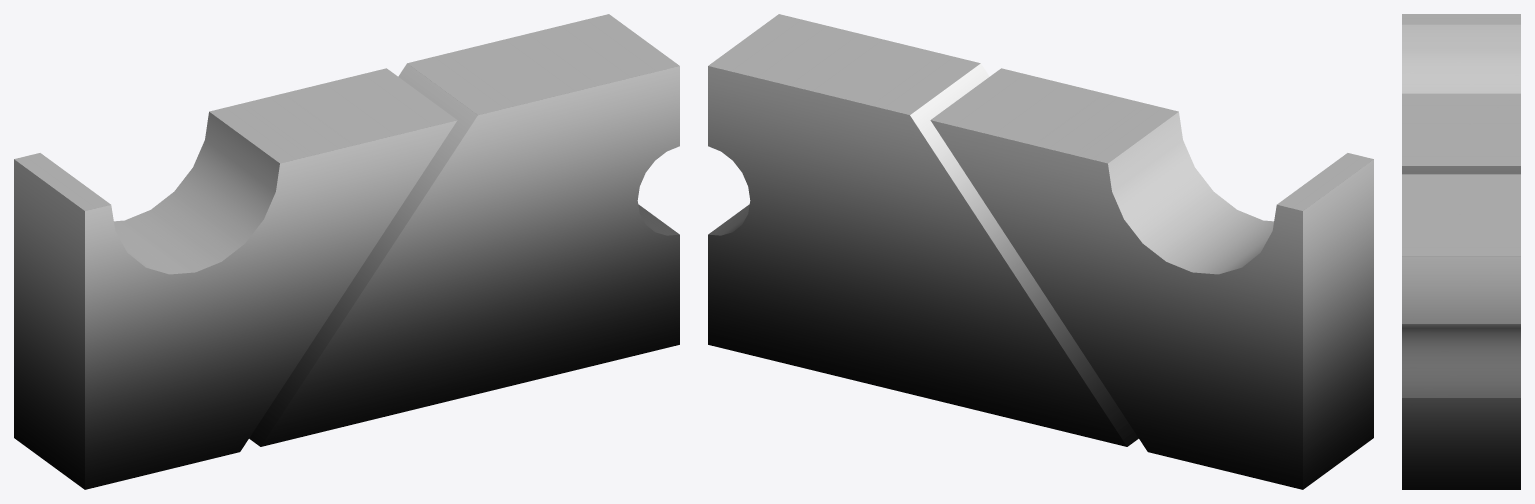
Rendered from BG_wall.fbx.
3 renders of one model, left to right at view 1: azimuth 30°, elevation 25°; view 2: azimuth 150°, elevation 25°; view 3: azimuth 270°, elevation 25°, orthographic. The views are drawn at different scales.
Visible parts, largest first — view 1: BG_wall; view 2: BG_wall; view 3: BG_wall.
Boxes of the visible parts, bbox=[...] form: BG_wall: bbox=[14, 14, 679, 489]; BG_wall: bbox=[708, 14, 1373, 489]; BG_wall: bbox=[1402, 14, 1520, 489].
Bounding box in the file's own units: 6252 × 2800 × 1292.
